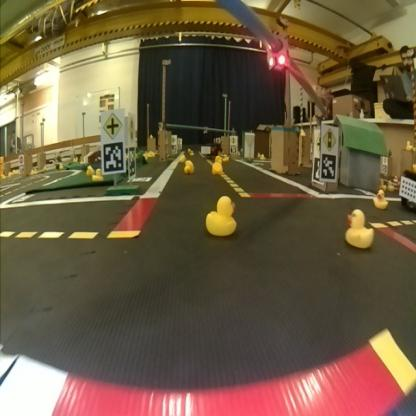Duckie: (207, 196, 237, 234), (346, 209, 374, 248), (376, 189, 388, 209), (213, 161, 223, 174), (185, 160, 195, 172)
Duckiebot: (399, 169, 415, 208)
Intersection sign: (103, 107, 125, 137)
QR code: (104, 142, 125, 170), (322, 152, 338, 180), (314, 156, 324, 183)
Signal sign: (323, 126, 339, 150)
Traffic light: (268, 38, 290, 69)
